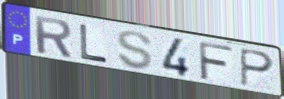4: (161, 37, 192, 79)
F: (197, 40, 236, 84)
L: (78, 23, 110, 65)
P: (238, 47, 276, 88)
R: (32, 13, 74, 59)
S: (115, 29, 154, 71)
